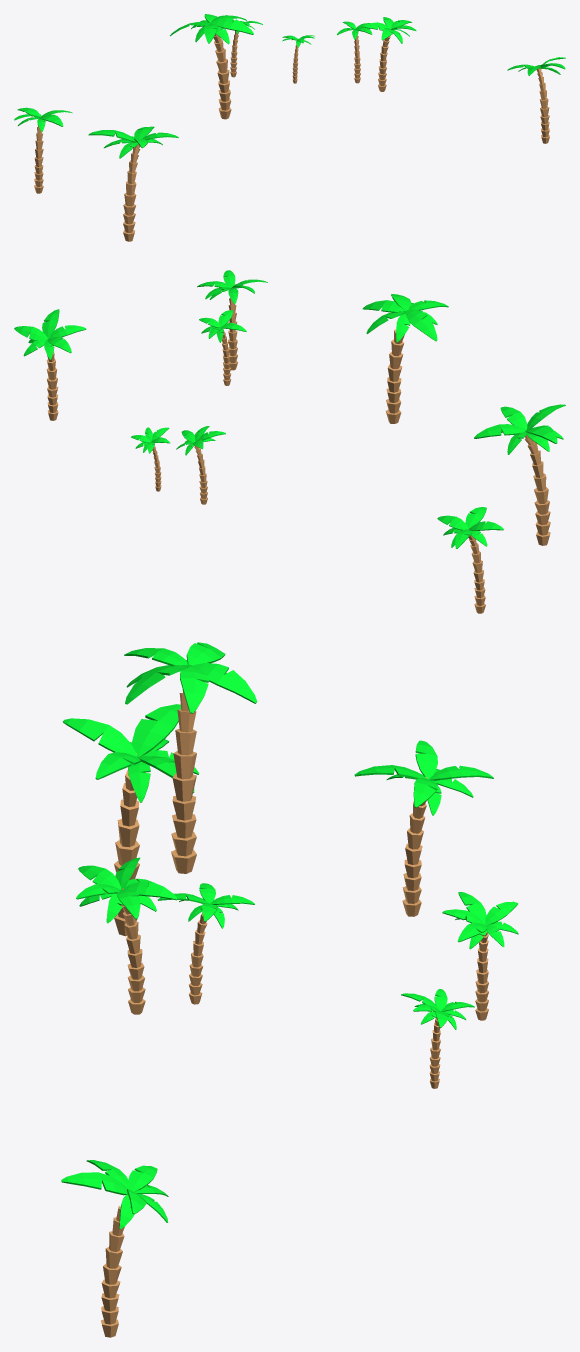
Rendered from SpecialProps.glb.
The picture shows the model from 3 angles, top to bottom: view 1: azimuth 30°, elevation 25°; view 2: azimuth 150°, elevation 25°; view 3: azimuth 270°, elevation 25°; orthographic projection. The views are drawn at different scales.
Parts seen in each view (by area): view 1: Palmtree.161, Palmtree.065, Palmtree.145, Palmtree.177, Palmtree.113, Palmtree.070; view 2: Palmtree.161, Palmtree.065, Palmtree.177, Palmtree.145, Palmtree.068, Palmtree.113, Palmtree.165; view 3: Palmtree.065, Palmtree.161, Palmtree.145, Palmtree.177, Palmtree.167, Palmtree.113, Palmtree.162, Palmtree.066, Palmtree.036, Palmtree.079, Palmtree.002, Palmtree.151.
Boxes of the visible parts, x1=… form: Palmtree.161: x1=123, y1=144, x2=140, y2=241; Palmtree.065: x1=213, y1=34, x2=231, y2=119; Palmtree.145: x1=536, y1=68, x2=549, y2=143; Palmtree.177: x1=34, y1=124, x2=43, y2=193; Palmtree.113: x1=378, y1=28, x2=390, y2=91; Palmtree.070: x1=211, y1=18, x2=253, y2=34; Palmtree.161: x1=524, y1=435, x2=550, y2=545; Palmtree.065: x1=386, y1=329, x2=404, y2=423; Palmtree.177: x1=468, y1=528, x2=485, y2=613; Palmtree.145: x1=46, y1=346, x2=58, y2=420; Palmtree.068: x1=405, y1=309, x2=437, y2=341; Palmtree.113: x1=228, y1=298, x2=237, y2=370; Palmtree.165: x1=474, y1=424, x2=525, y2=438; Palmtree.065: x1=171, y1=689, x2=196, y2=873; Palmtree.161: x1=114, y1=753, x2=139, y2=936; Palmtree.145: x1=101, y1=1206, x2=124, y2=1337; Palmtree.177: x1=402, y1=777, x2=427, y2=916; Palmtree.167: x1=132, y1=704, x2=181, y2=756; Palmtree.113: x1=121, y1=888, x2=145, y2=1014; Palmtree.162: x1=62, y1=718, x2=136, y2=756; Palmtree.066: x1=193, y1=663, x2=257, y2=703; Palmtree.036: x1=189, y1=913, x2=207, y2=1004; Palmtree.079: x1=180, y1=664, x2=208, y2=713; Palmtree.002: x1=475, y1=932, x2=488, y2=1020; Palmtree.151: x1=61, y1=1172, x2=127, y2=1195.
Bounding box in the file's own units: 15.2 × 5.63 × 6.28.
